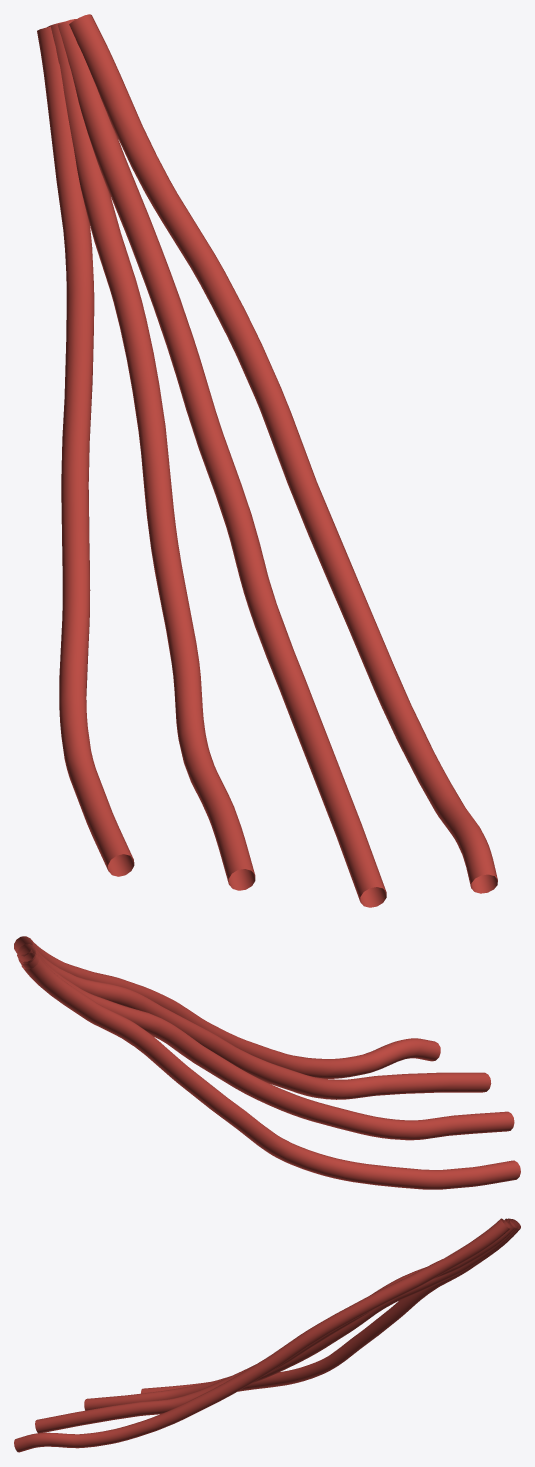
File: musculos-tendon-of-extensor-digitorum-longus-r.glb
3 renders of one model, top to bottom at view 1: azimuth 30°, elevation 25°; view 2: azimuth 150°, elevation 25°; view 3: azimuth 270°, elevation 25°, orthographic. The views are drawn at different scales.
Parts seen in each view (by area): view 1: Tendon of extensor digitorum longus.r; view 2: Tendon of extensor digitorum longus.r; view 3: Tendon of extensor digitorum longus.r.
Boxes of the visible parts, bbox=[...] form: Tendon of extensor digitorum longus.r: bbox=[37, 14, 497, 907]; Tendon of extensor digitorum longus.r: bbox=[14, 936, 520, 1189]; Tendon of extensor digitorum longus.r: bbox=[14, 1218, 520, 1452].
Size of the model in its own units: 0.0571 by 0.0821 by 0.1445.
